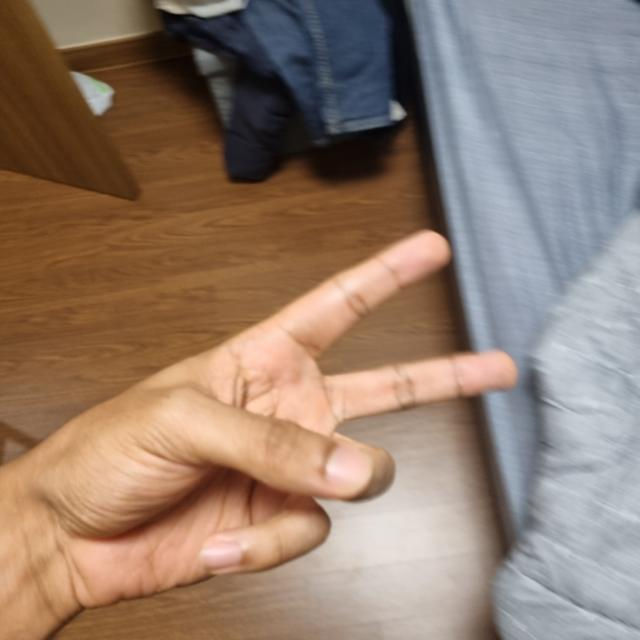Scissors: (16, 237, 512, 606)
